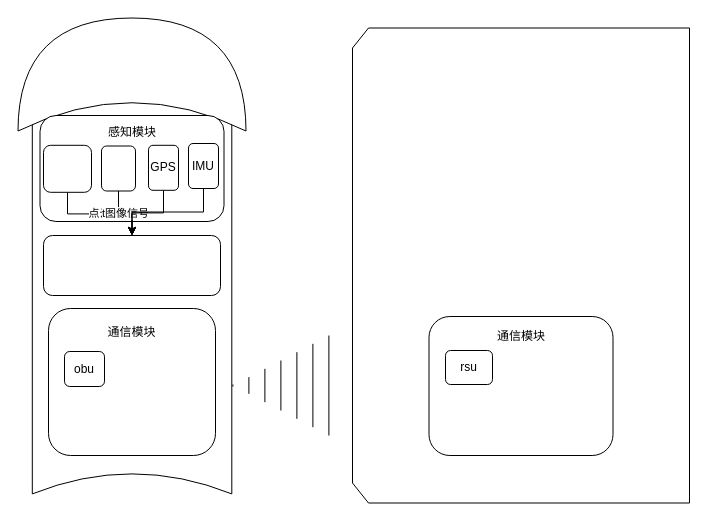
This 707x520 diagram has some shape labels left out. Here are the shapes that lost their labels. From the top down, the centre of each, then its label:
At point (67, 168): "32线激光雷达".
At point (118, 168): "Basler 彩色相机".
At point (131, 265): "工控机".
